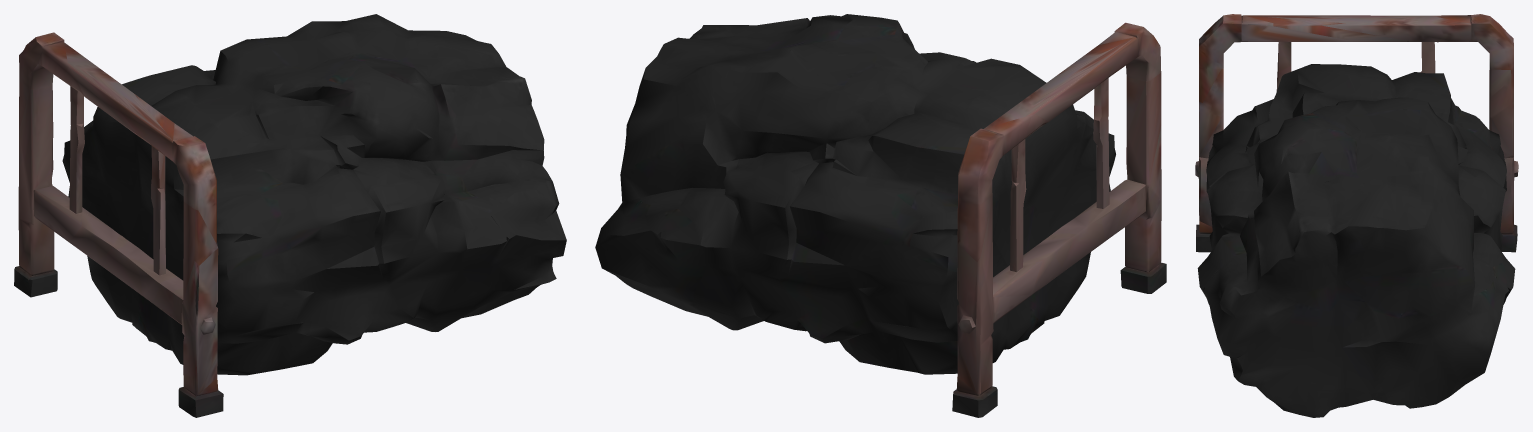
Rendered from coal_chunk_kamennyy_idle.glb.
3 views of the same model, side by side, from view 1: azimuth 30°, elevation 25°; view 2: azimuth 150°, elevation 25°; view 3: azimuth 270°, elevation 25° (orthographic). The views are drawn at different scales.
Parts seen in each view (by area): view 1: tripo_node_f9c8627a-f8e6-44d4-8be9-867af7d2aaf0; view 2: tripo_node_f9c8627a-f8e6-44d4-8be9-867af7d2aaf0; view 3: tripo_node_f9c8627a-f8e6-44d4-8be9-867af7d2aaf0.
Part boxes in pixels (x1=…): tripo_node_f9c8627a-f8e6-44d4-8be9-867af7d2aaf0: x1=14, y1=14, x2=566, y2=417; tripo_node_f9c8627a-f8e6-44d4-8be9-867af7d2aaf0: x1=595, y1=14, x2=1166, y2=417; tripo_node_f9c8627a-f8e6-44d4-8be9-867af7d2aaf0: x1=1195, y1=14, x2=1518, y2=417.
Bounding box in the file's own units: 0.1817 × 0.1199 × 0.1463.
1 material, 1 textured.
